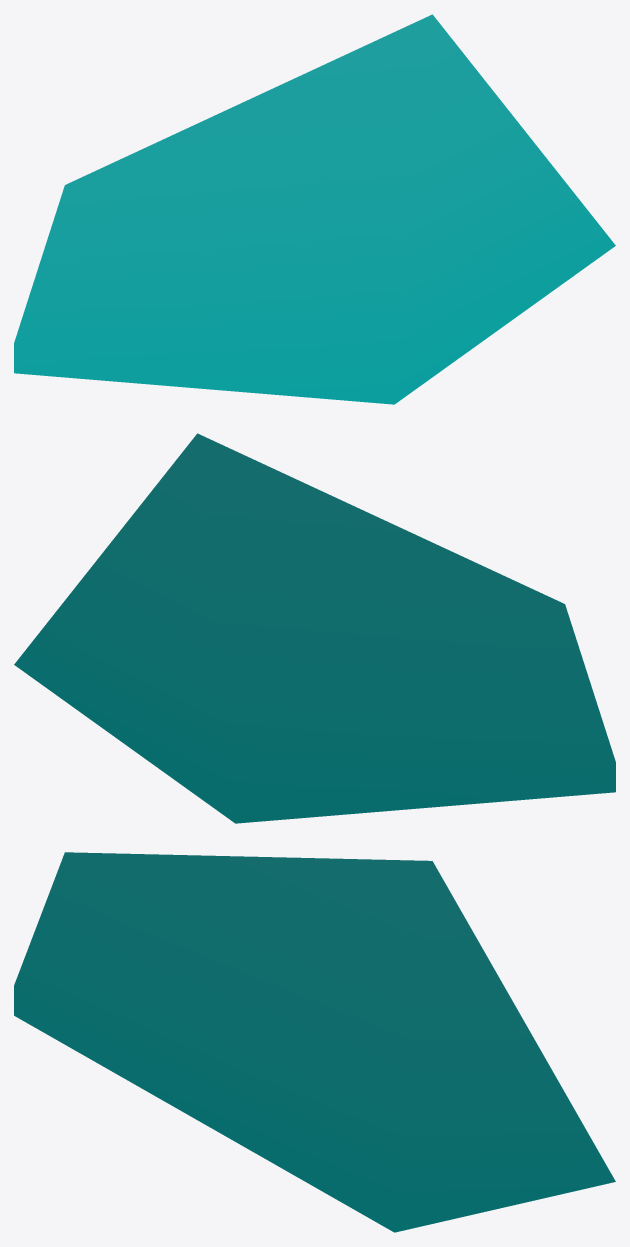
File: Wild_Grass_vlkhcbxia_Low_vlkhcbxia_VarH_LOD2.fbx
3 views of the same model, one above another, from view 1: azimuth 30°, elevation 25°; view 2: azimuth 150°, elevation 25°; view 3: azimuth 330°, elevation 25° (orthographic).
Parts seen in each view (by area): view 1: _9pu1_VarH_LOD4; view 2: _9pu1_VarH_LOD4; view 3: _9pu1_VarH_LOD4.
Part boxes in pixels (x1=…): _9pu1_VarH_LOD4: x1=14, y1=14, x2=615, y2=404; _9pu1_VarH_LOD4: x1=14, y1=433, x2=615, y2=823; _9pu1_VarH_LOD4: x1=14, y1=852, x2=615, y2=1232.
Bounding box in the file's own units: 19.05 × 11.52 × 0.
